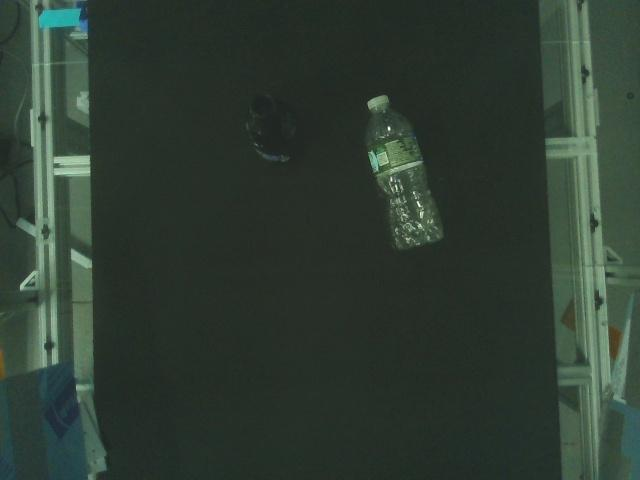glass: (244, 93, 306, 167)
plastic: (362, 94, 445, 251)
